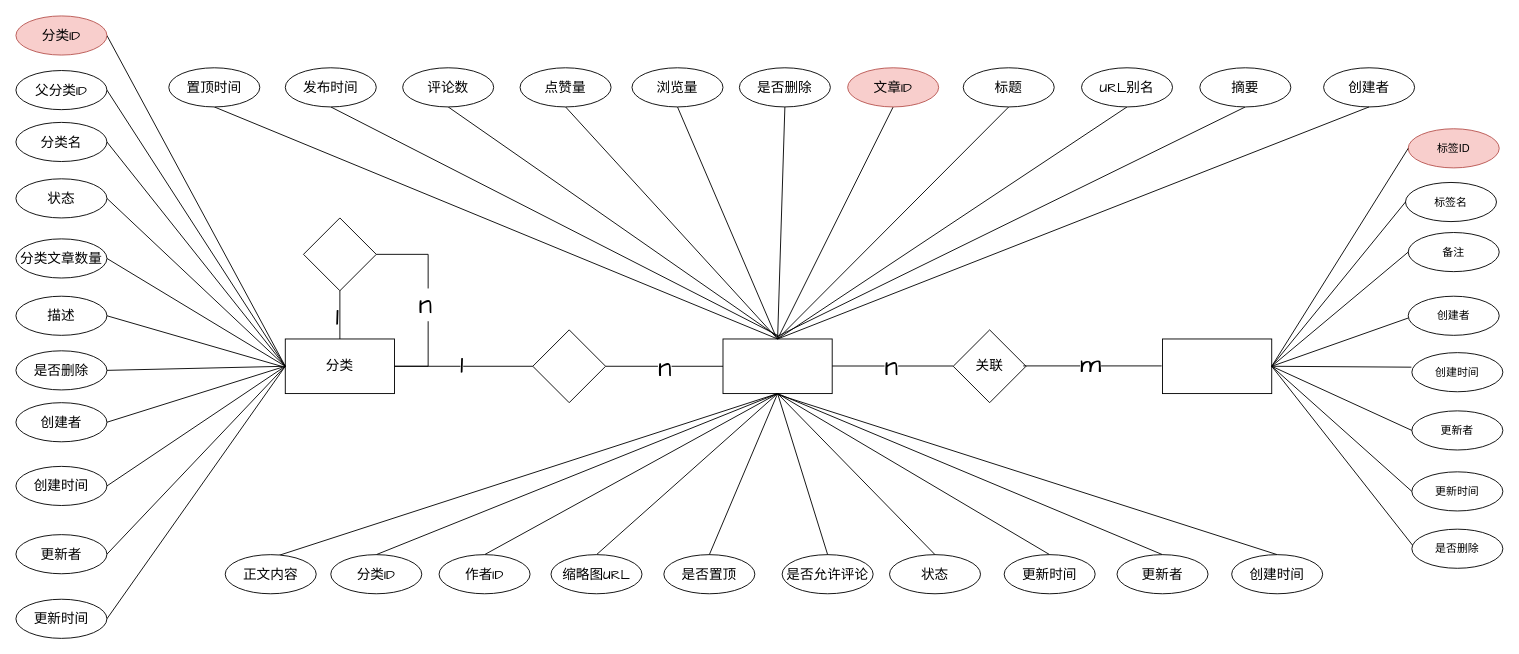
This 1519x654 diagram has some shape labels left out. Each missing label, with the centre of its shape:
包含: point 339,254
属于: point 569,366
文章: point 777,366
标签: point 1217,366
